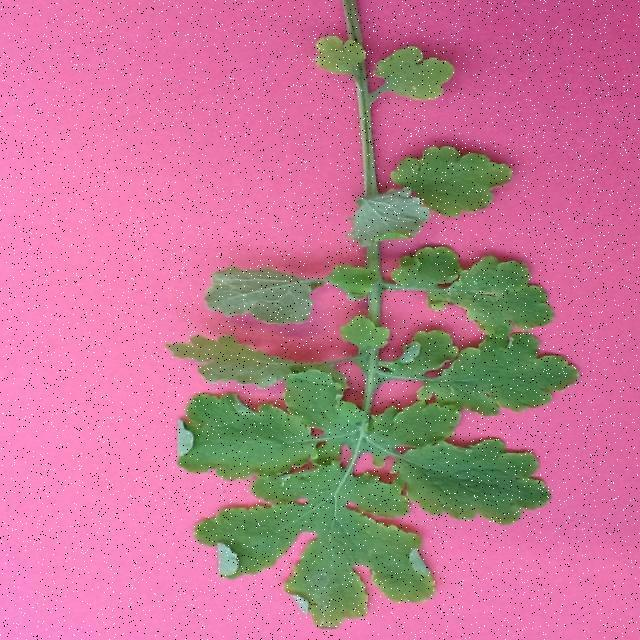foliage: (187, 467, 436, 633), (369, 402, 558, 528), (171, 366, 365, 482), (376, 326, 576, 421), (371, 245, 553, 343), (164, 330, 373, 395), (198, 260, 378, 326), (387, 138, 522, 214), (366, 45, 456, 117), (347, 190, 431, 253), (307, 30, 371, 86)
